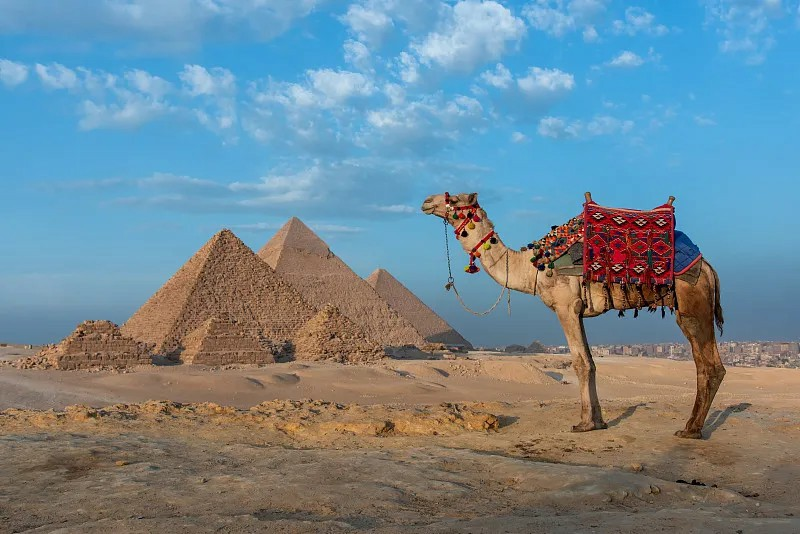Pyramid: (121, 229, 323, 361), (258, 217, 428, 351), (365, 267, 472, 348), (281, 303, 388, 363), (42, 319, 154, 370), (177, 315, 278, 366)
